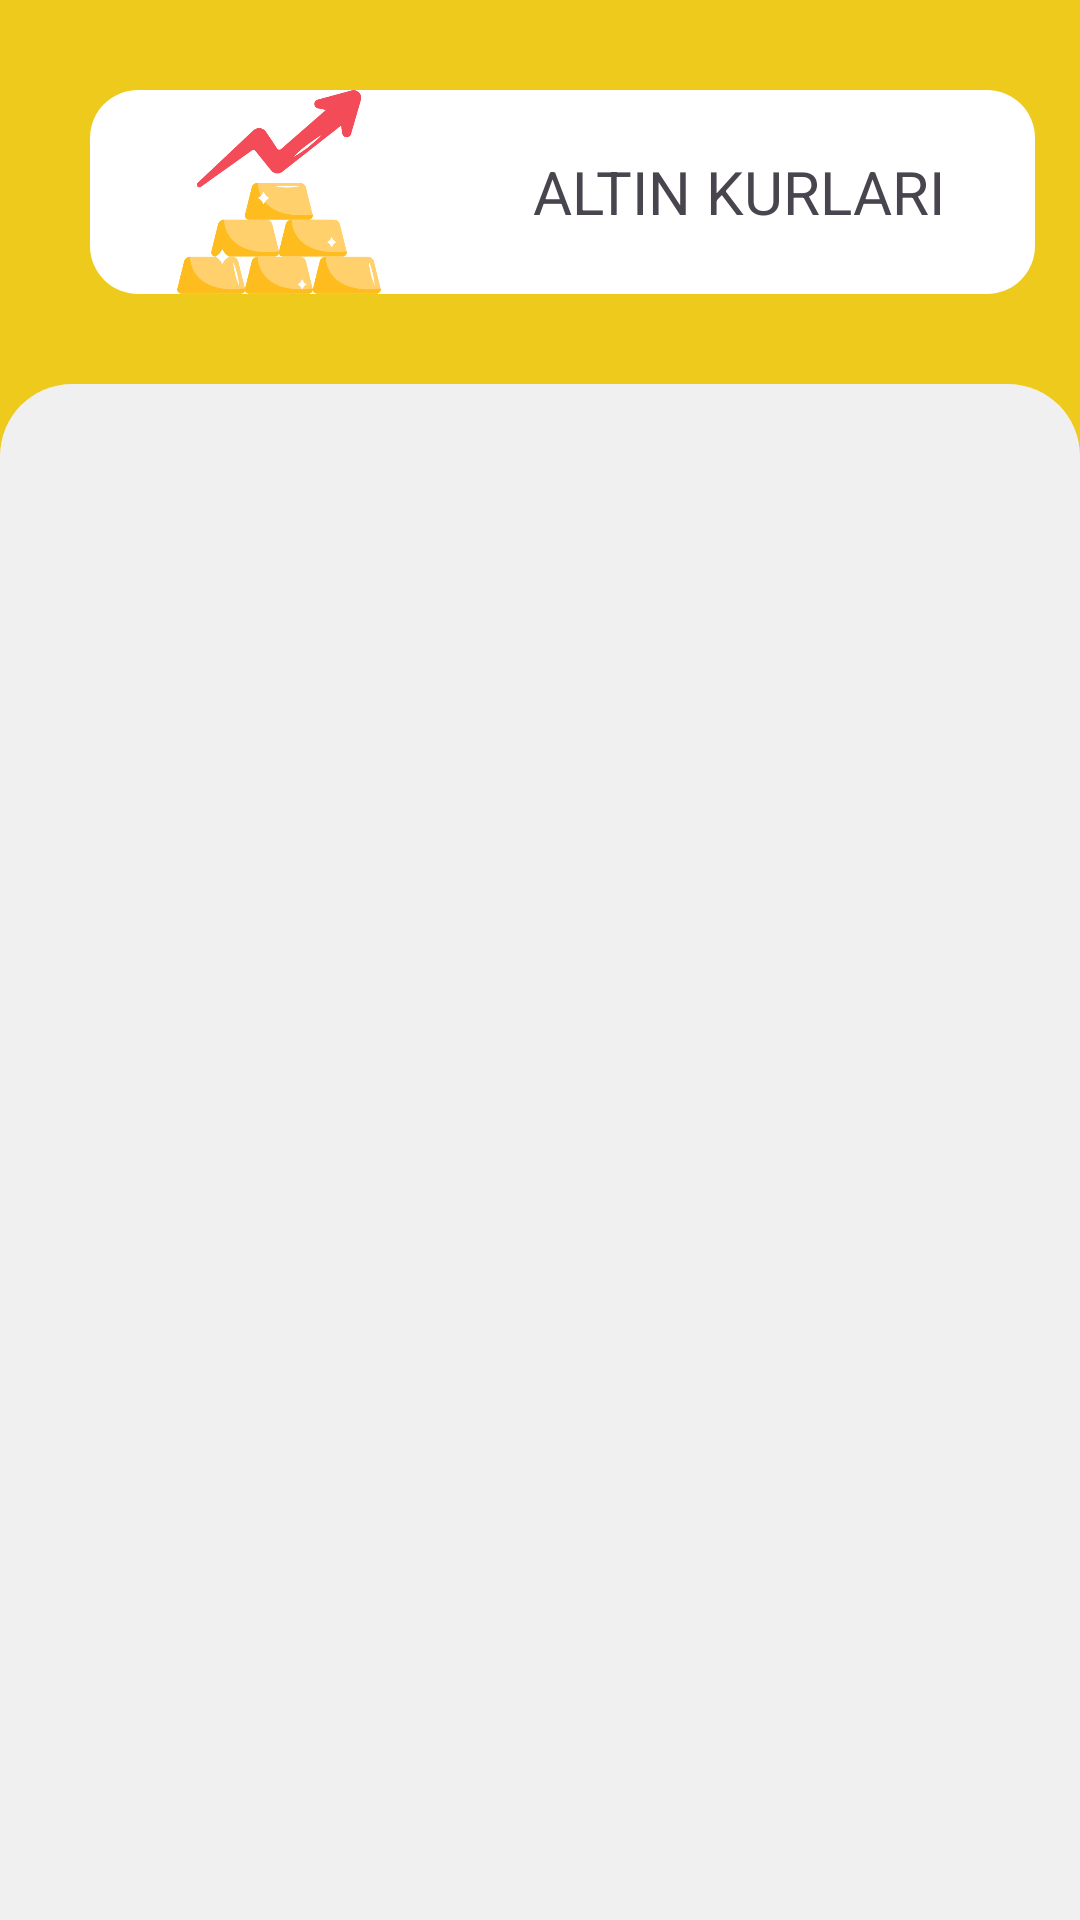

Screen size 1080w x 1920h. Icon name, then its center in pixels as (x=x, y=y):
gold: (x=279, y=192)
